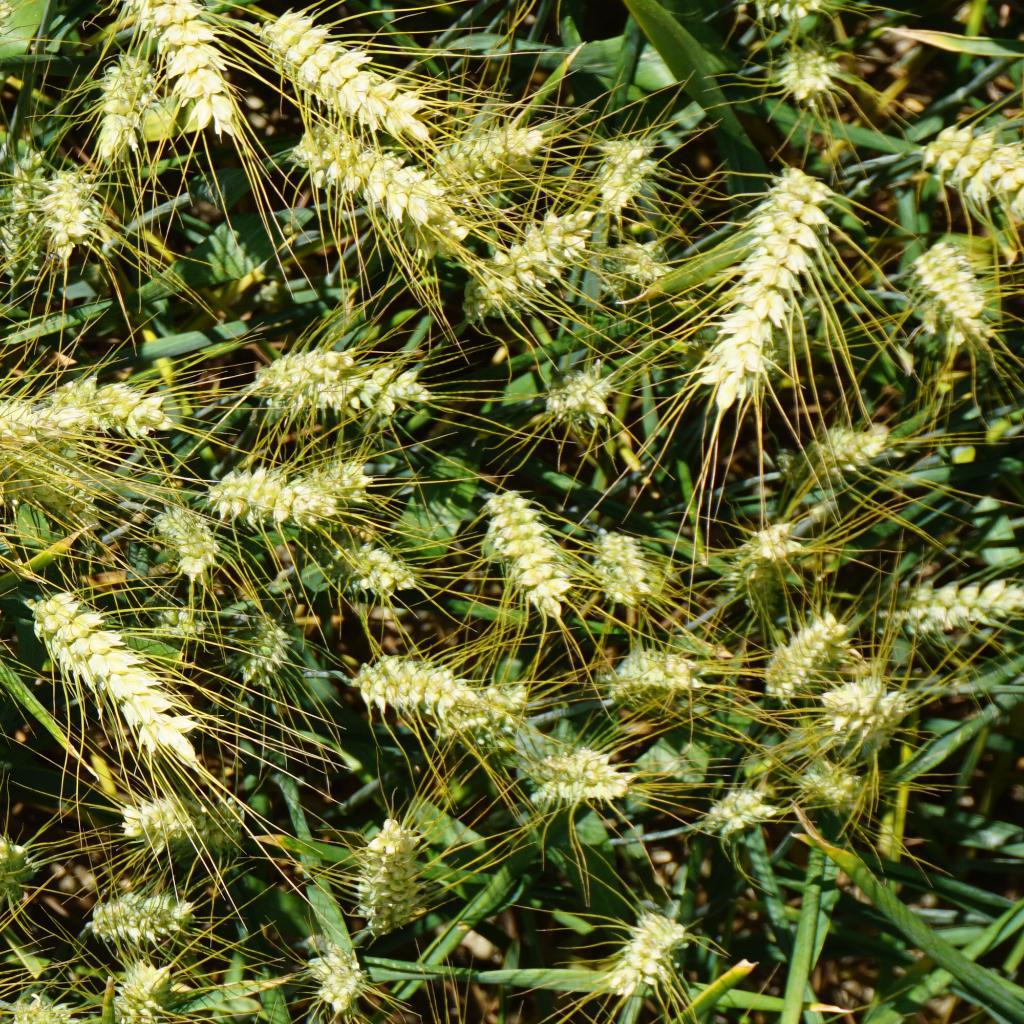0-0: (22, 587, 204, 766), (687, 210, 836, 395), (290, 118, 467, 262), (257, 14, 423, 140), (122, 0, 240, 149), (466, 188, 584, 334), (421, 110, 557, 217), (477, 486, 585, 619), (815, 663, 927, 755), (590, 912, 691, 1007), (354, 813, 428, 939), (3, 440, 100, 536), (80, 881, 204, 953), (519, 744, 634, 820), (897, 580, 1019, 651), (82, 51, 153, 172), (123, 783, 244, 851), (303, 362, 429, 426), (349, 651, 464, 716), (275, 457, 374, 526), (534, 357, 617, 434), (915, 243, 982, 336), (342, 541, 427, 614), (301, 934, 380, 1012), (585, 519, 655, 604), (86, 372, 173, 439), (755, 617, 836, 687), (590, 119, 651, 211), (38, 166, 100, 256), (617, 636, 694, 708), (254, 335, 339, 400), (0, 378, 92, 436), (816, 408, 886, 482), (590, 227, 666, 294), (108, 956, 182, 1024), (439, 682, 521, 743), (149, 500, 216, 574), (795, 751, 866, 819), (135, 592, 212, 653), (0, 166, 39, 281), (207, 469, 285, 526), (700, 780, 779, 835), (227, 615, 290, 678), (773, 56, 840, 115), (14, 992, 119, 1024), (731, 519, 793, 571), (0, 824, 34, 897)
